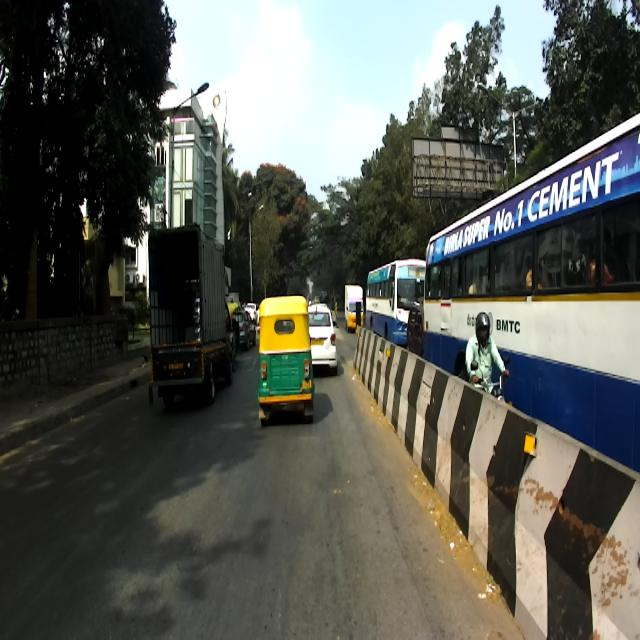auto ahead at: (258, 299, 314, 422)
truck ahead at: (146, 219, 238, 406)
